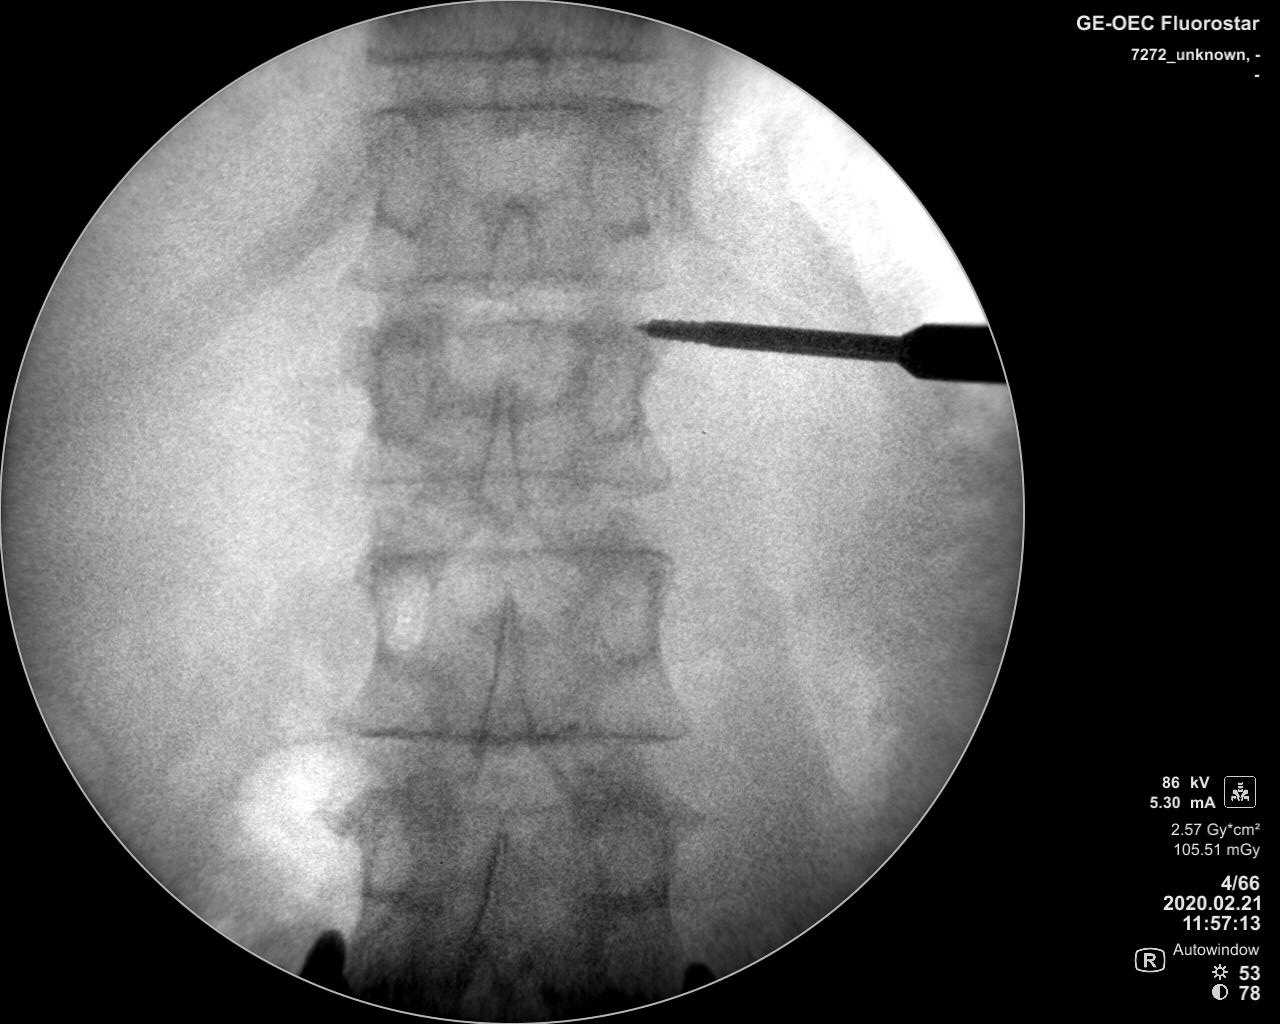eyes: (358, 107, 444, 241), (578, 113, 667, 241), (360, 318, 444, 450), (580, 543, 672, 659), (576, 328, 647, 448), (577, 808, 670, 897), (360, 546, 430, 664), (354, 802, 421, 903)
line: (335, 465, 677, 517), (340, 259, 686, 304), (332, 718, 699, 757), (351, 534, 681, 571), (358, 39, 669, 77), (362, 95, 670, 132)
nose: (472, 585, 539, 763), (472, 371, 529, 530), (467, 819, 518, 958), (487, 30, 546, 147), (481, 189, 539, 302)
